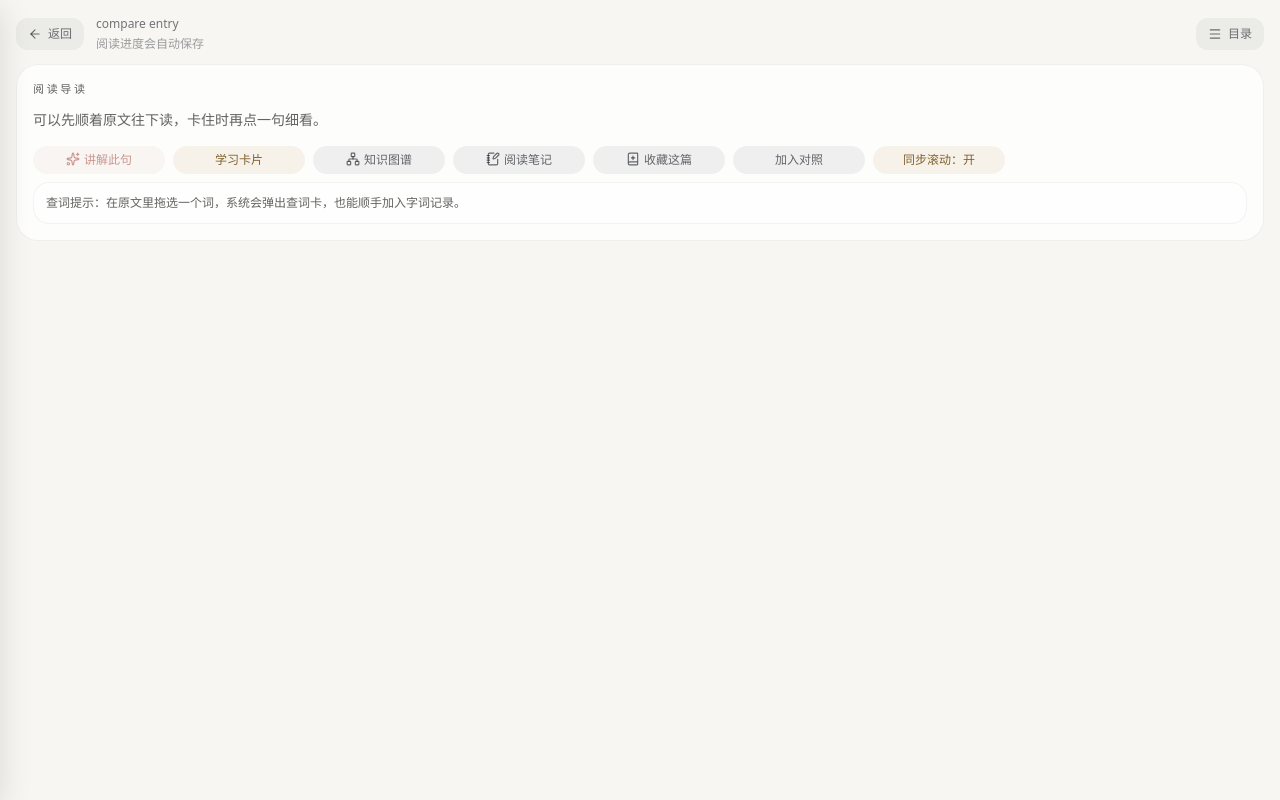
Scenario: ThreeColumnReader › lets people add the current document to comparison from the reader page
What coordinates should you click on to do the following:
click the button "加入对照"
I would click on:
 (799, 160)
Its box is x1=733 y1=146 x2=865 y2=174.
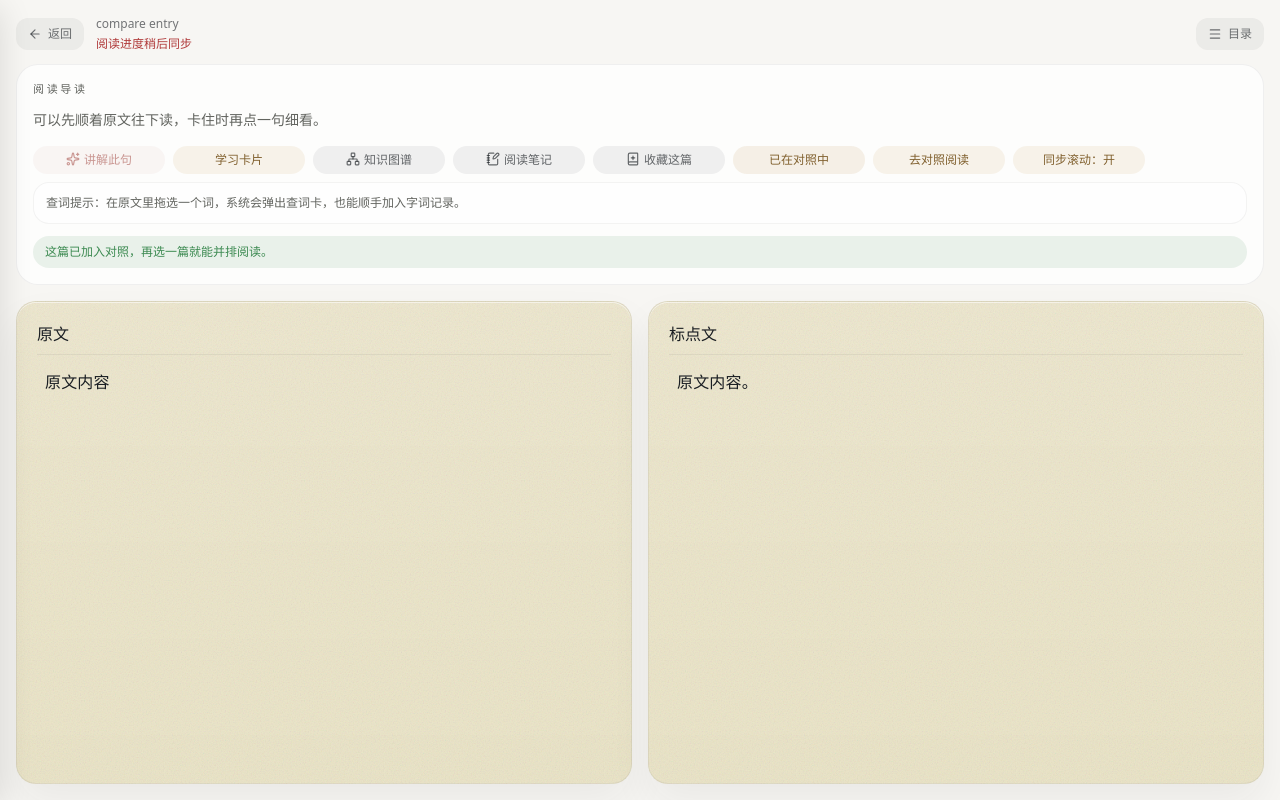
Check: the text "这篇已加入对照，再选一篇就能并排阅读。" is shown, box x1=33 y1=236 x2=1247 y2=268
